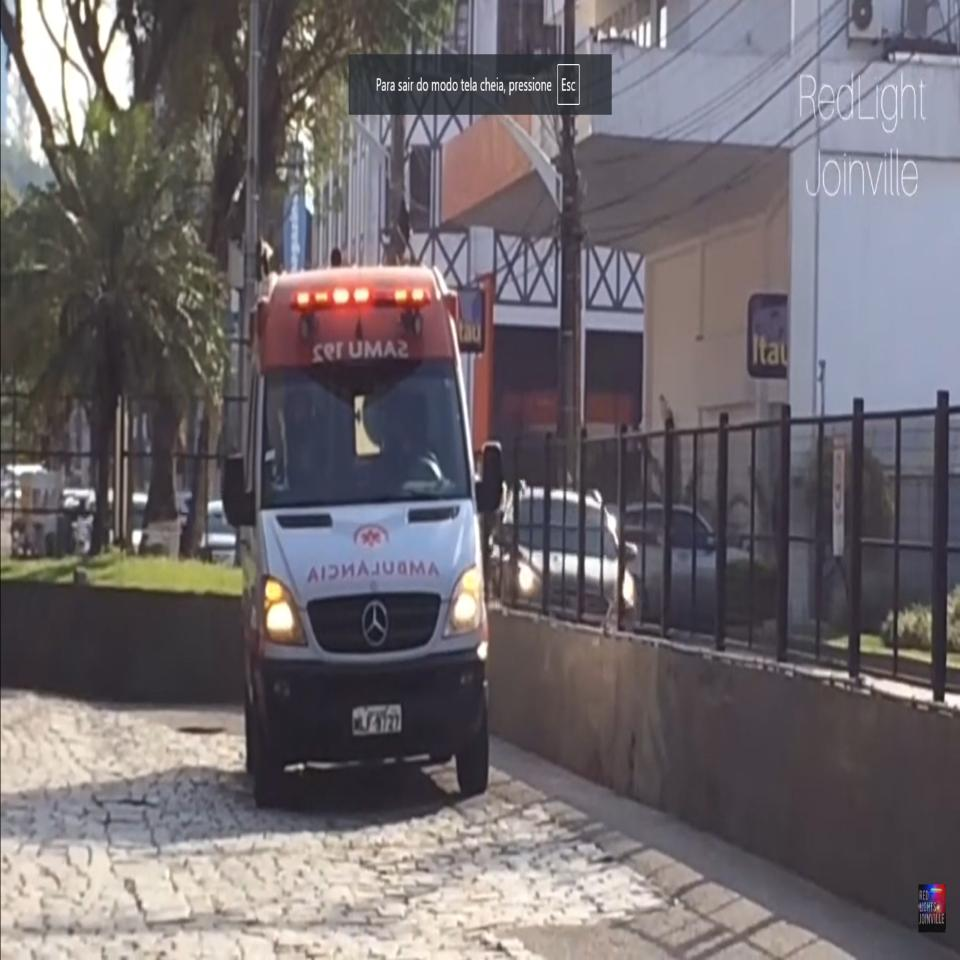bombeiro: (220, 256, 506, 808)
